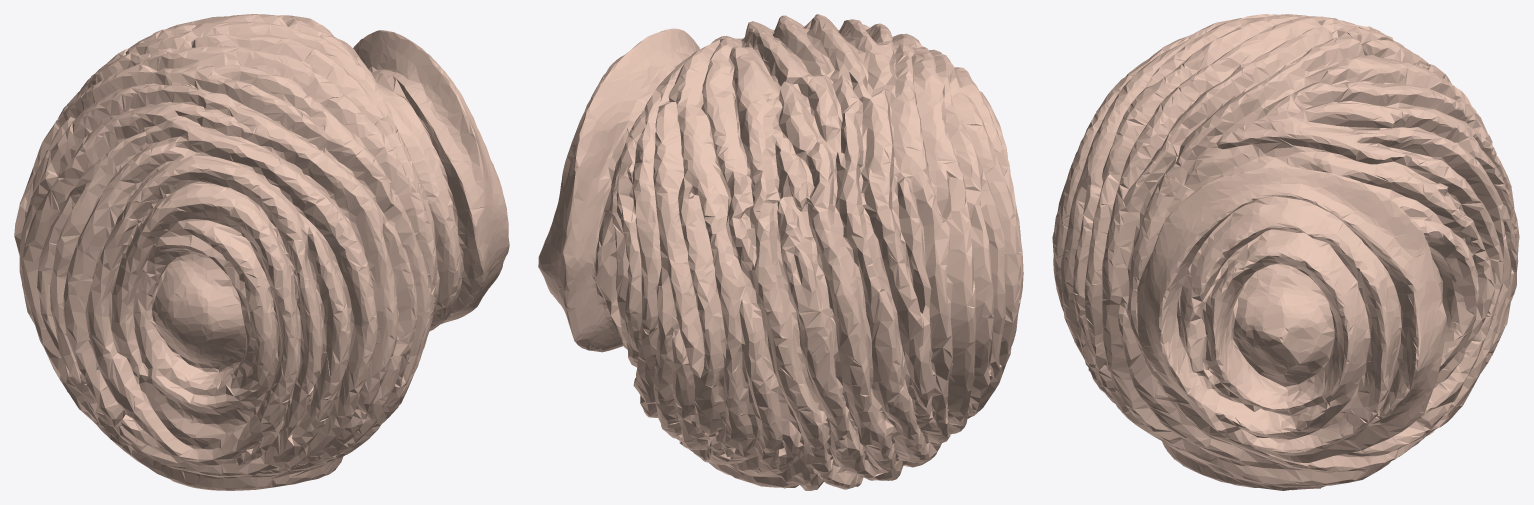
The model's file is knob_a-replacement-drawer-knob-fluted-cylinde.glb.
3 views of the same model, side by side, from view 1: azimuth 30°, elevation 25°; view 2: azimuth 150°, elevation 25°; view 3: azimuth 270°, elevation 25° (orthographic).
Parts seen in each view (by area): view 1: world; view 2: world; view 3: world.
Boxes of the visible parts, bbox=[...] form: world: bbox=[14, 14, 509, 490]; world: bbox=[538, 14, 1023, 490]; world: bbox=[1052, 14, 1519, 490].
Bounding box in the file's own units: 1.98 × 2 × 1.98.
